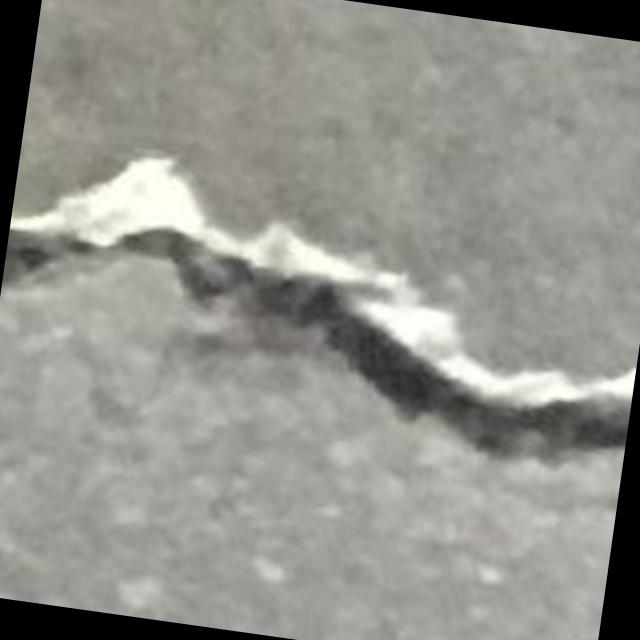crack: (2, 156, 635, 461)
